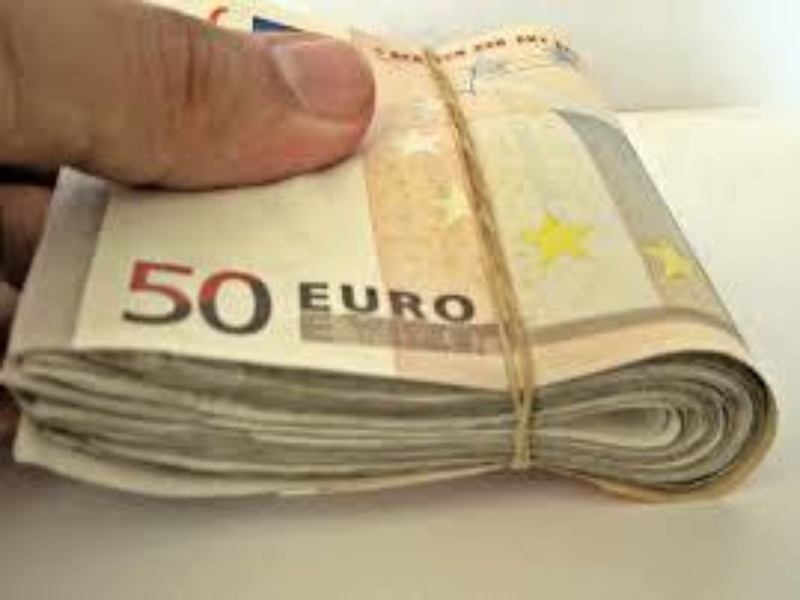cash: (1, 1, 780, 503)
